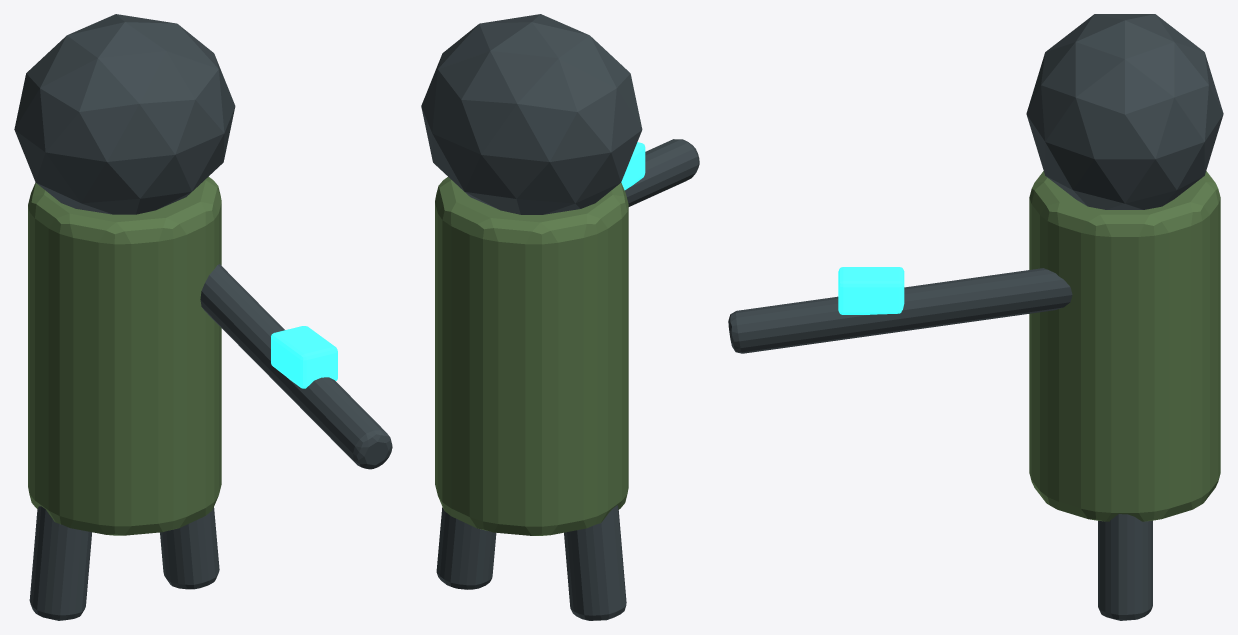
Rendered from human_infantry.glb.
3 views of the same model, side by side, from view 1: azimuth 30°, elevation 25°; view 2: azimuth 150°, elevation 25°; view 3: azimuth 270°, elevation 25° (orthographic). The views are drawn at different scales.
Visible parts, largest first — view 1: Body, Helmet, Rifle, Leg, Leg.001, Optic; view 2: Body, Helmet, Leg, Leg.001, Rifle, Optic; view 3: Body, Helmet, Rifle, Leg.001, Optic.
Boxes of the visible parts, x1,y1,x2,y2 form: Body: (28, 176, 221, 535); Helmet: (14, 14, 235, 214); Rifle: (200, 264, 392, 469); Leg: (29, 506, 91, 620); Leg.001: (160, 507, 219, 589); Optic: (271, 326, 337, 388); Body: (435, 177, 628, 535); Helmet: (421, 14, 642, 214); Leg: (564, 505, 626, 620); Leg.001: (436, 507, 496, 589); Rifle: (625, 139, 699, 206); Optic: (621, 142, 645, 190); Body: (1029, 171, 1220, 521); Helmet: (1026, 14, 1223, 209); Rifle: (728, 268, 1072, 353); Leg.001: (1098, 514, 1152, 620); Optic: (838, 267, 904, 314).
Size of the model in its own units: 0.2283 by 0.6618 by 0.5272.
